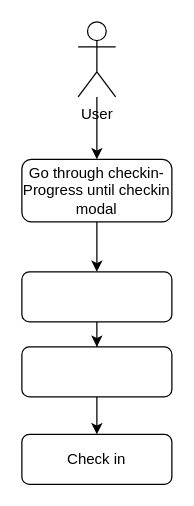
Some shapes in this 194 by 506 pixel diagram are drawn without their labels. Each missing label, with the box of its shape:
click dropdown for reason for travel: (21, 271, 172, 322)
select any reason: (21, 346, 172, 397)
